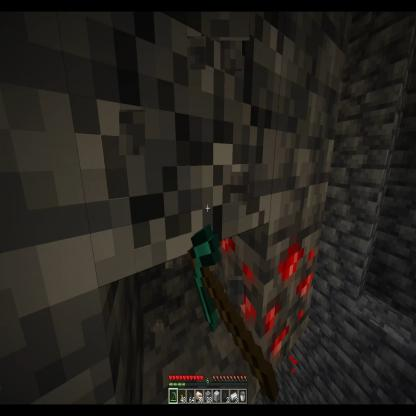redstone ore: (214, 231, 319, 367)
